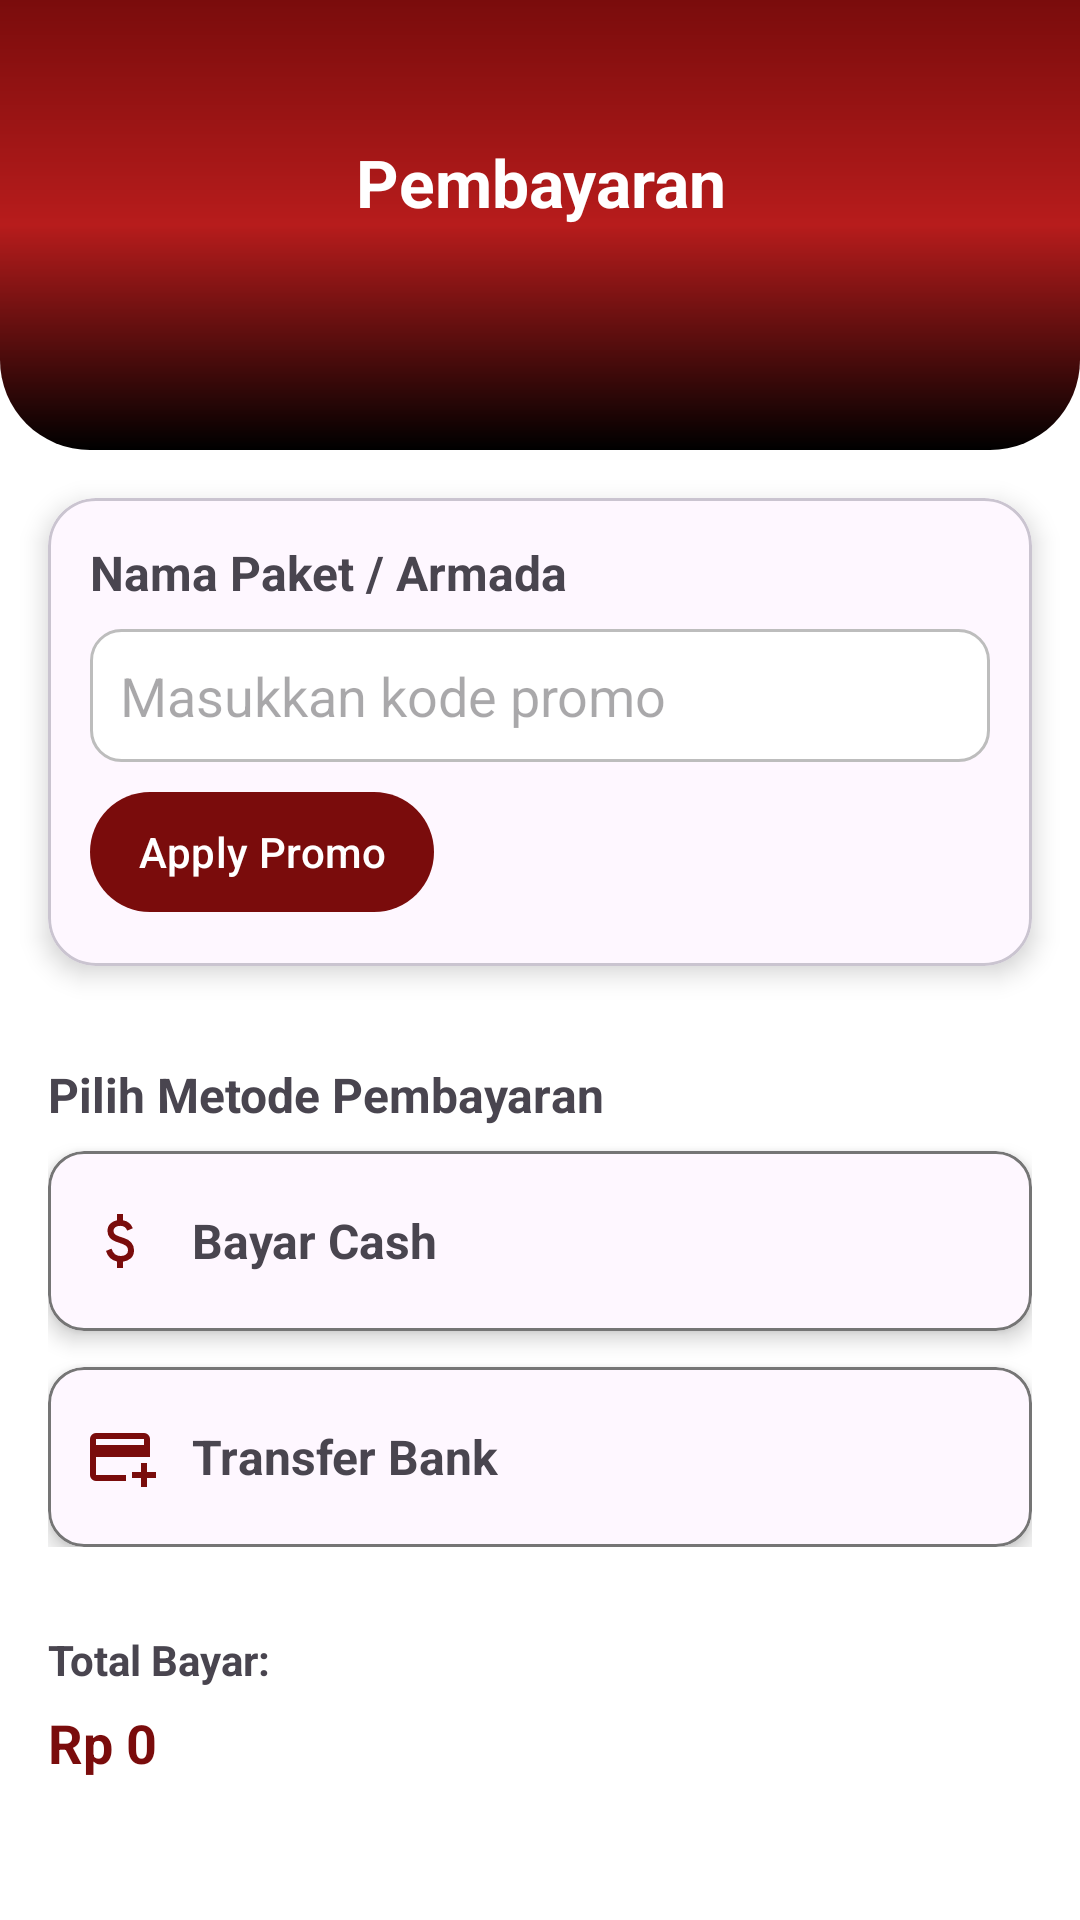

Locate icon controls on the screen. Image size 1080*1920, boxes as box(x1, y1, x2, y2).
card: box(90, 1433, 156, 1487)
money: box(106, 1214, 134, 1268)
